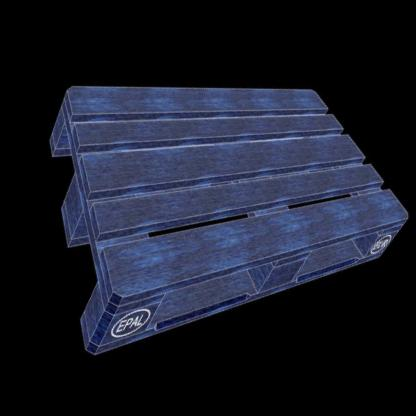BoxFace: (46, 86, 413, 361)
